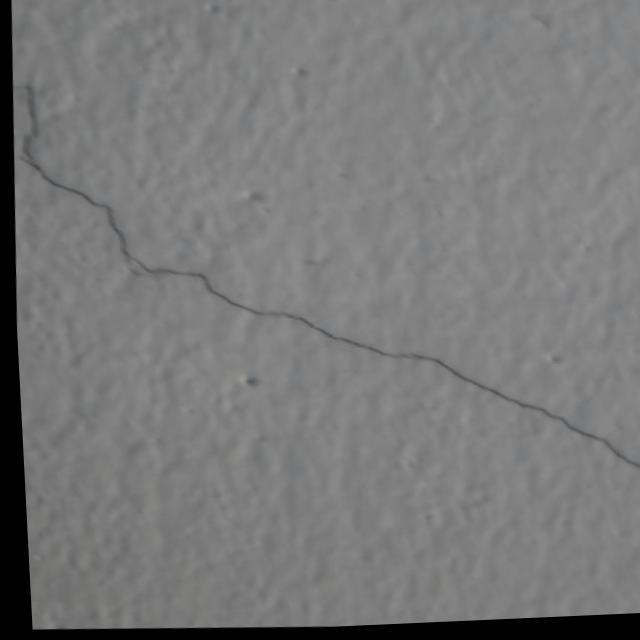Crack: (4, 67, 640, 545)
